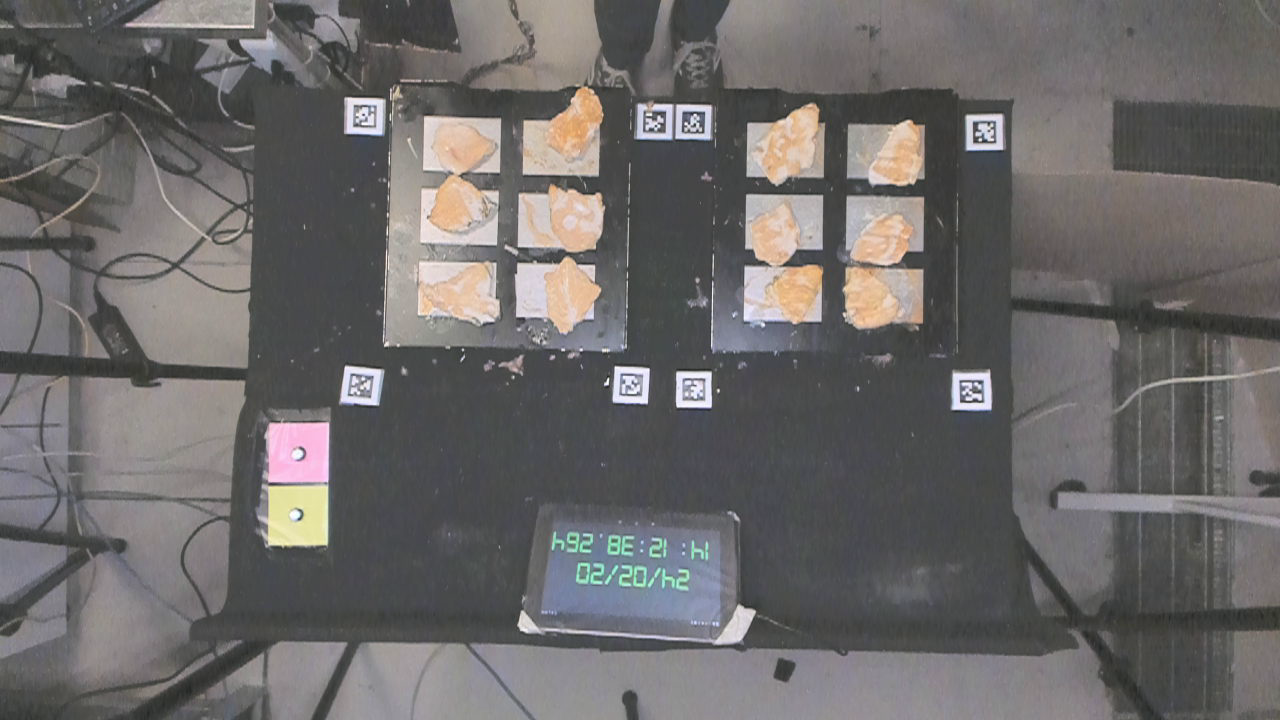chicken: (413, 261, 505, 326), (755, 102, 822, 185), (423, 169, 499, 233), (542, 181, 608, 253), (540, 261, 601, 335), (550, 88, 605, 166), (838, 216, 917, 268), (868, 117, 924, 188), (428, 120, 500, 174), (840, 268, 898, 333), (746, 204, 800, 266), (770, 263, 823, 321)
marker: (267, 421, 329, 483)
